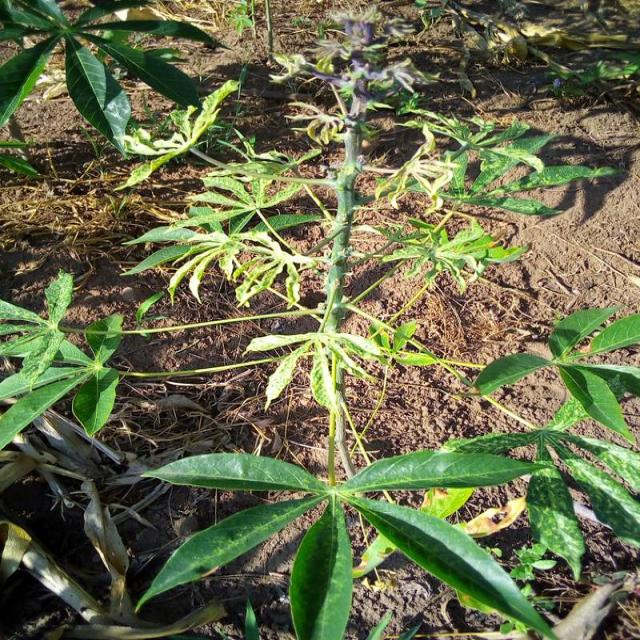cassava leaf: (340, 492, 558, 638), (288, 495, 353, 638), (63, 32, 131, 158)
